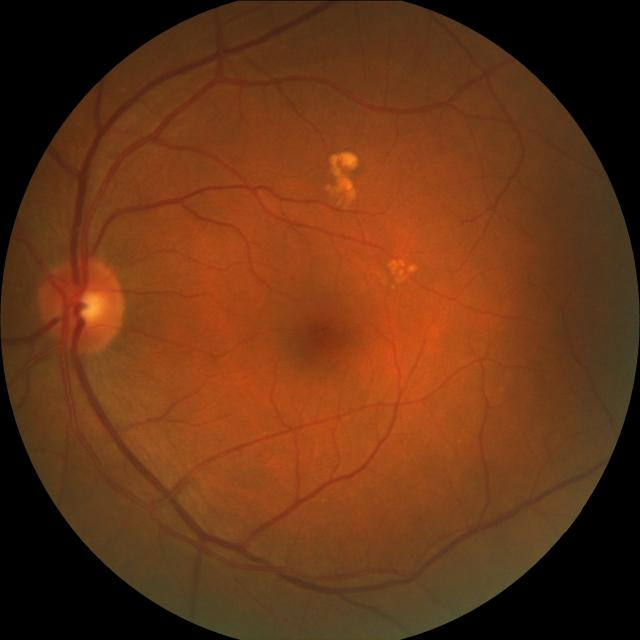OC: (57, 284, 105, 324)
OD: (34, 254, 124, 351)
